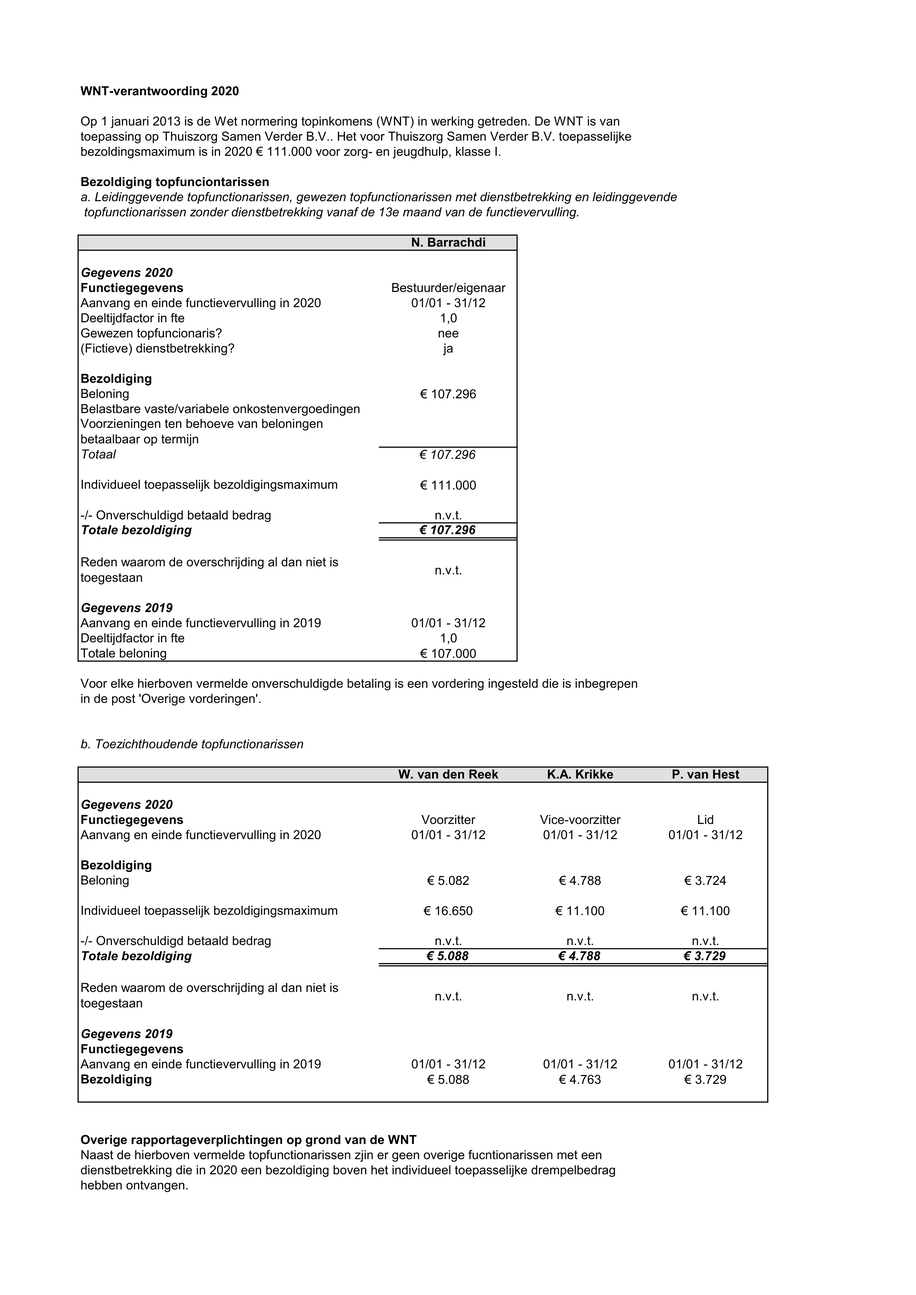coulmn: (79, 236, 355, 661), (80, 768, 347, 1100), (371, 233, 507, 662), (379, 766, 504, 1101), (524, 770, 646, 1103), (661, 768, 772, 1103)
